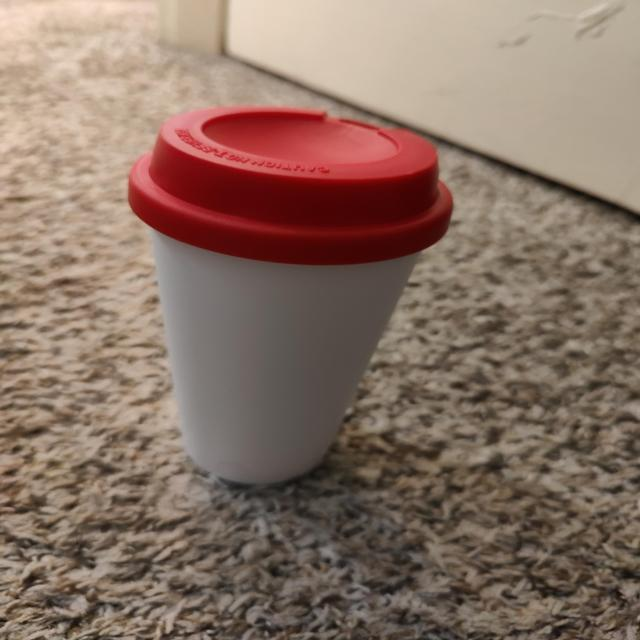mug: (183, 127, 338, 458)
